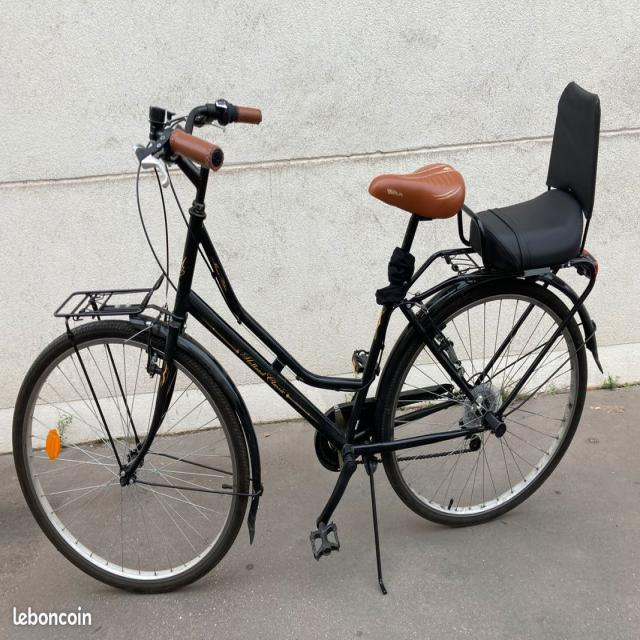Bike: (12, 81, 604, 595)
